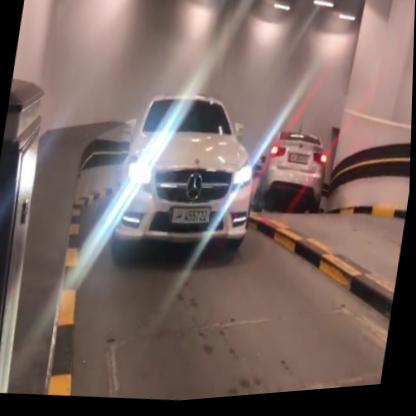np: (166, 201, 215, 234), (287, 152, 313, 174)
